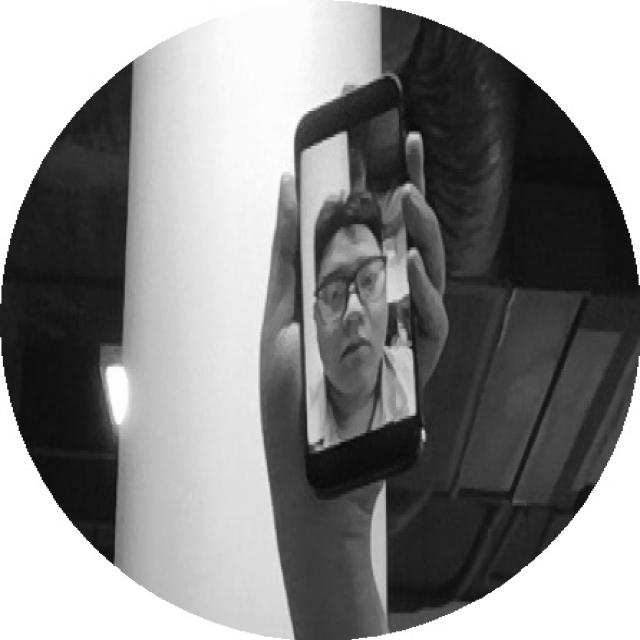fake: (269, 68, 458, 511), (280, 72, 447, 509)
